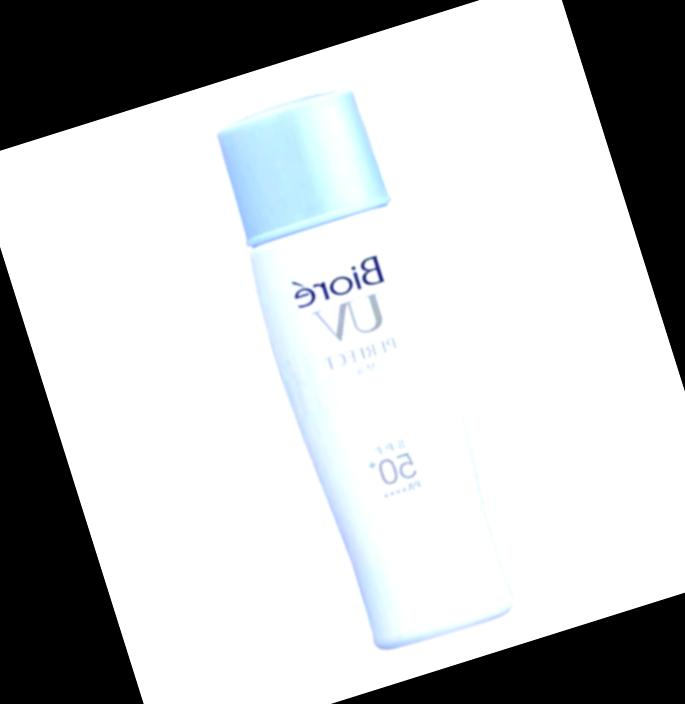cosmetic: (207, 87, 522, 653)
